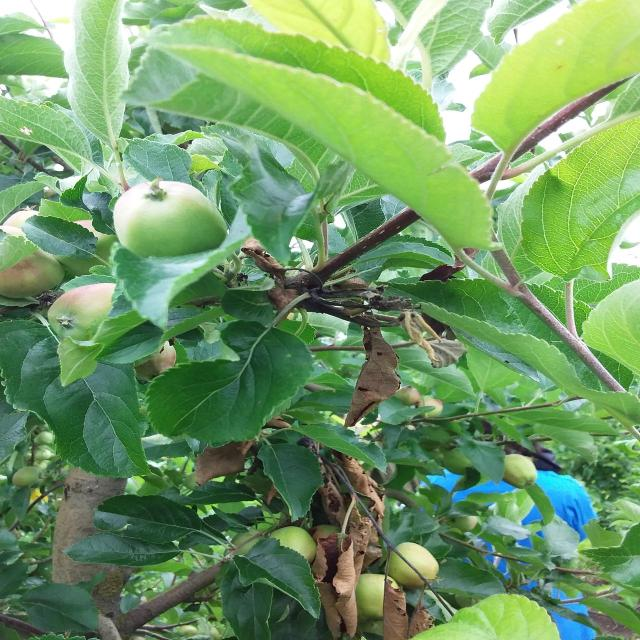-FireBlight-: (321, 453, 378, 637), (350, 314, 397, 431), (243, 248, 299, 308), (385, 582, 427, 640)
